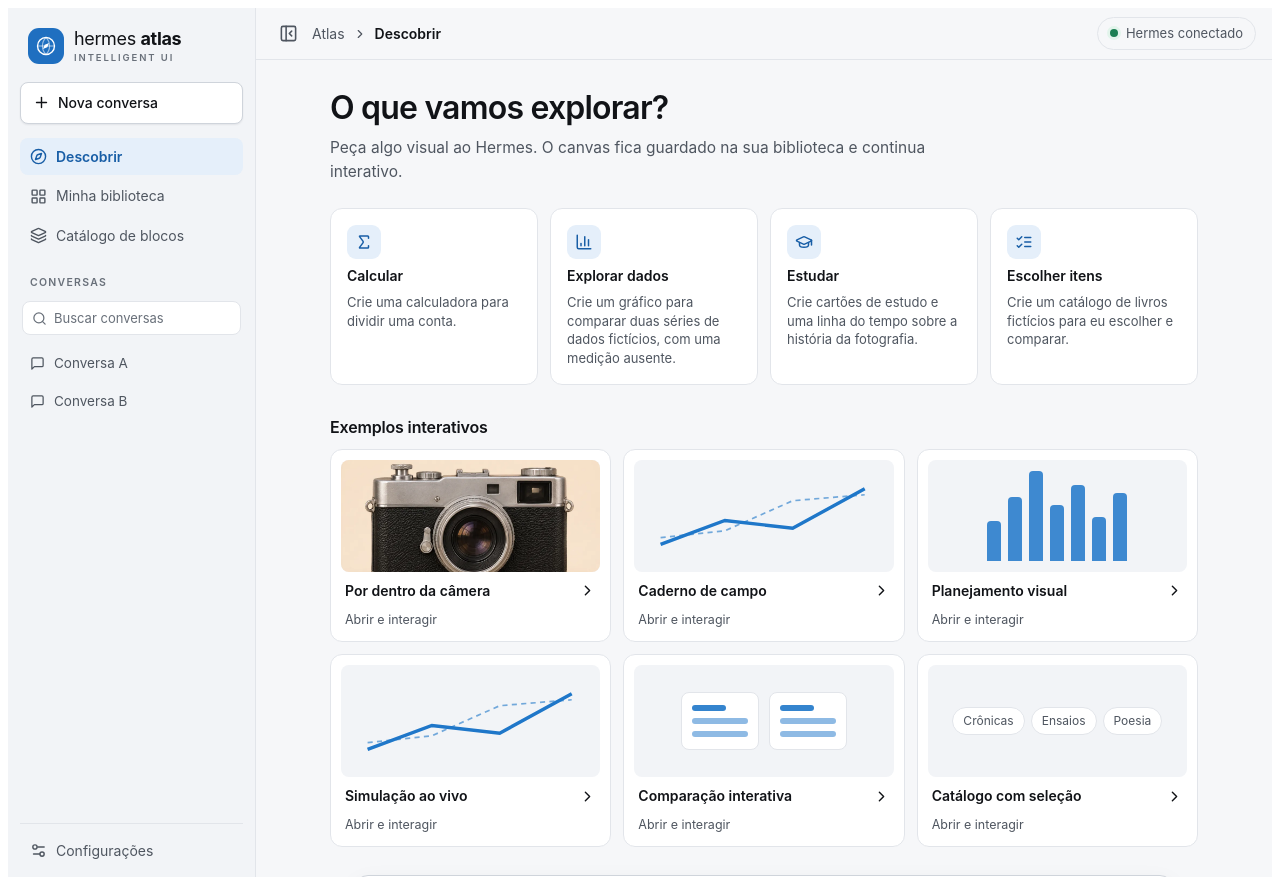
shows the gateway's redacted command alongside the description before approving once
Later steps or results of the test are not shown.
Click the button "Conversa A".
click(132, 363)  # box [20,345,243,382]
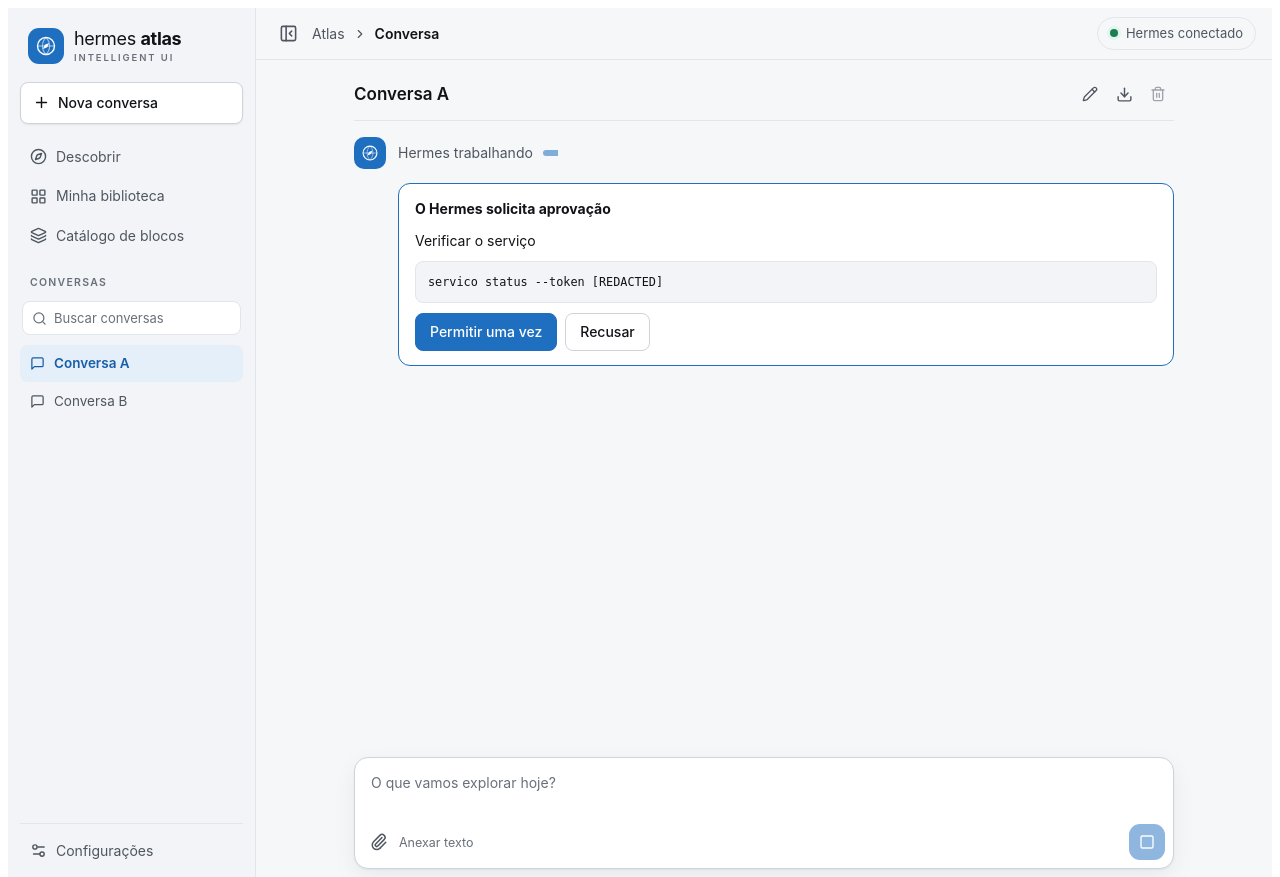
Now the text "Verificar o serviço" is shown, box [415,232,536,249]
Now the text "servico status --token [REDACTED]" is shown, box [428,275,663,289]
